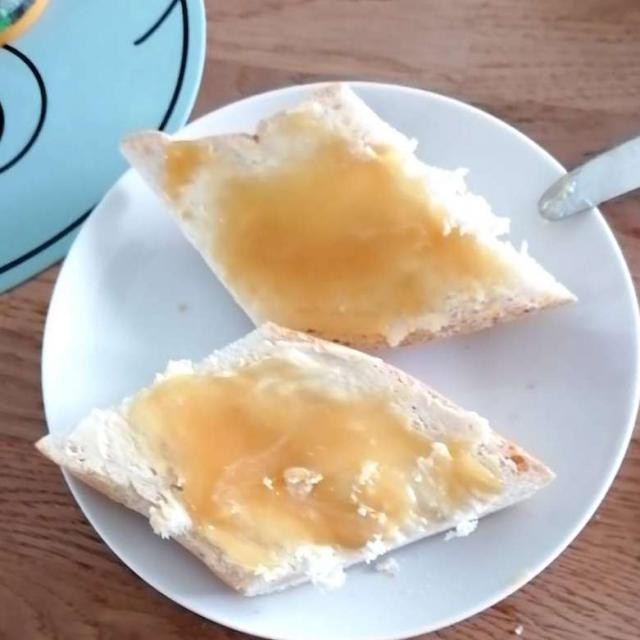bread-french-white-flour: (30, 81, 572, 609)
butter: (302, 470, 425, 513)
honey: (167, 158, 476, 555)
